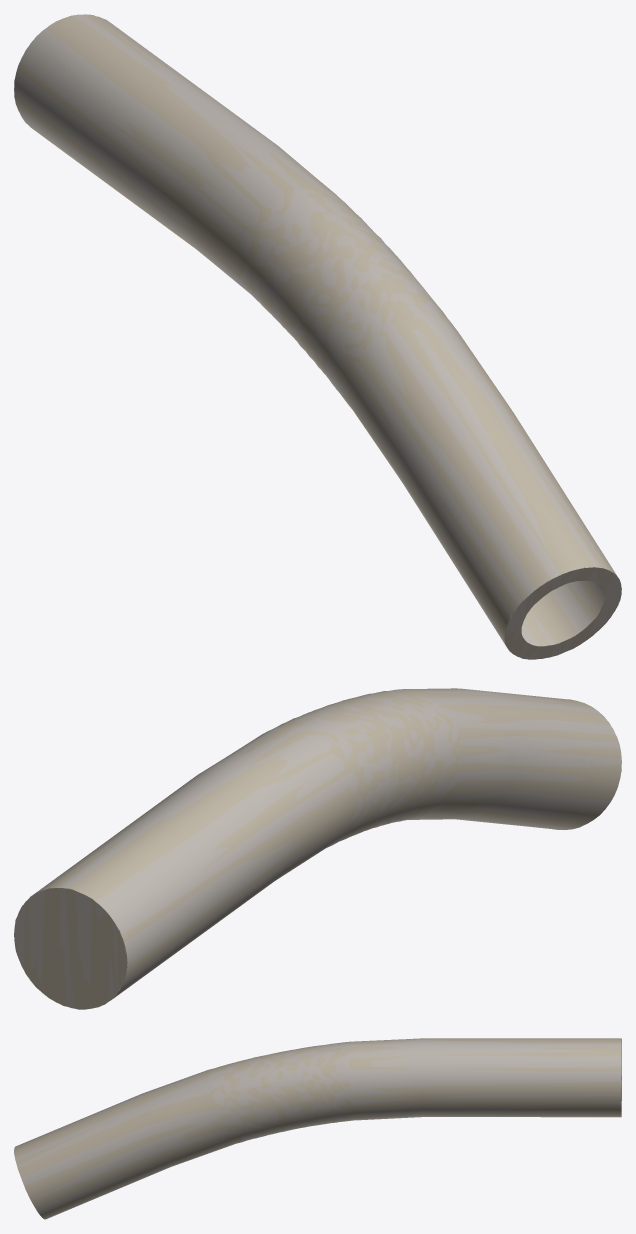
Rendered from original_15.obj.
3 renders of one model, top to bottom at view 1: azimuth 30°, elevation 25°; view 2: azimuth 150°, elevation 25°; view 3: azimuth 270°, elevation 25°, orthographic. The views are drawn at different scales.
Visible parts, largest first — view 1: #ID323; view 2: #ID323; view 3: #ID323.
Boxes of the visible parts, <box> form: #ID323: <box>14,14,621,659</box>; #ID323: <box>14,688,621,1009</box>; #ID323: <box>14,1038,621,1219</box>.
Bounding box in the file's own units: 0.0494 × 0.1188 × 0.3763.
2 materials, 1 textured.
